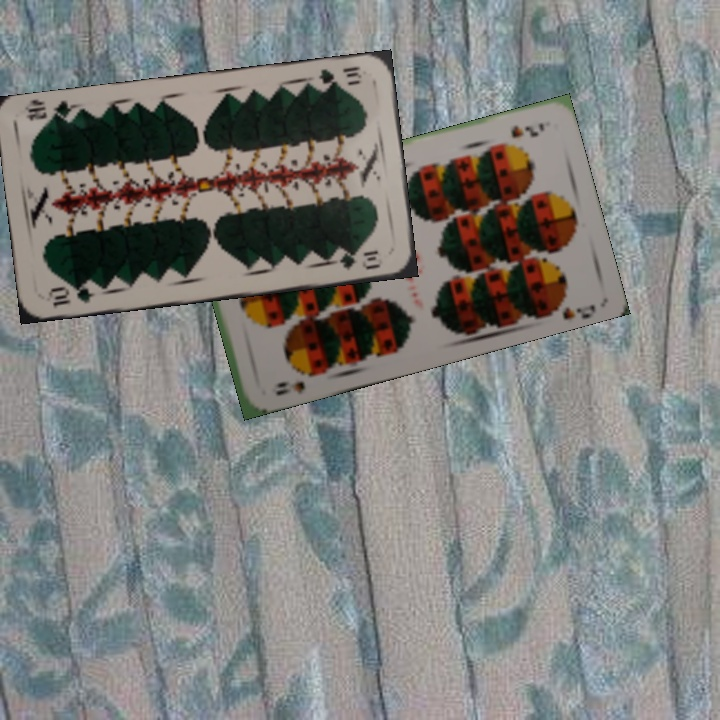G10: (309, 62, 365, 93), (43, 281, 98, 310)
S9: (272, 365, 319, 398), (506, 119, 547, 141)
